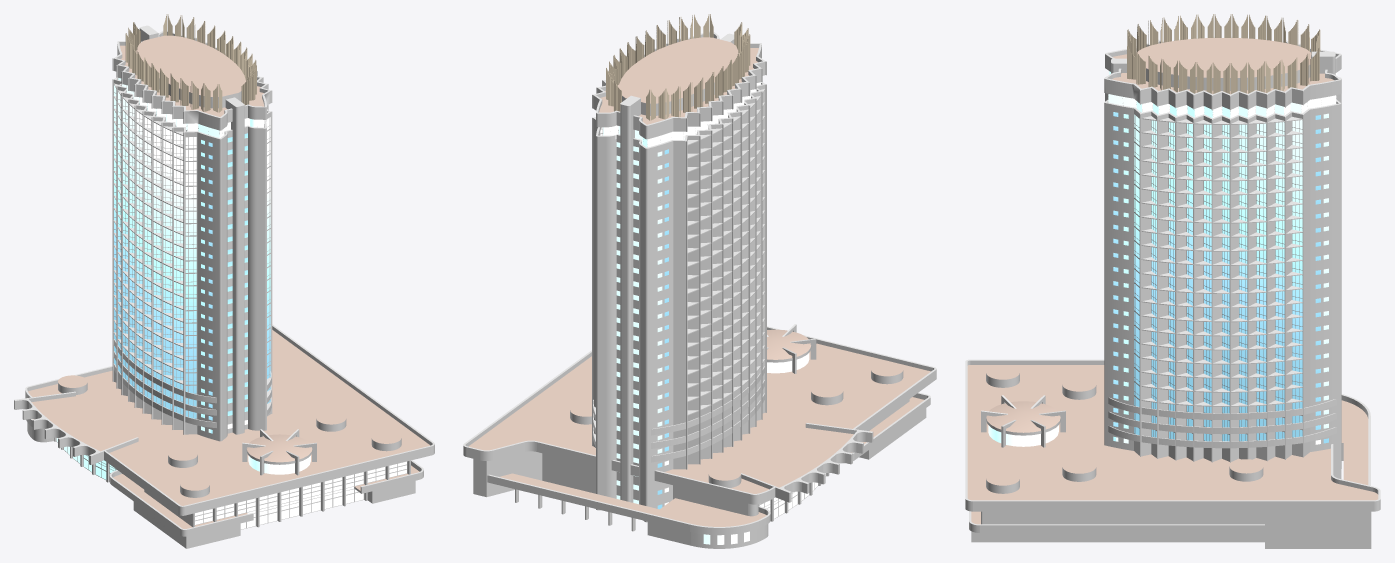
File: gost-kazakh3.glb
The picture shows the model from 3 angles, left to right: view 1: azimuth 30°, elevation 25°; view 2: azimuth 150°, elevation 25°; view 3: azimuth 270°, elevation 25°; orthographic projection. The views are drawn at different scales.
Visible parts, largest first — view 1: 1172723, 1182863, 667172, Компонент#7, Компонент#1.009, Компонент#7.001, Компонент#1.008, Компонент#1.007, 1005980, Компонент#1.006, Компонент#1.005, Компонент#1.004 (+42 smaller); view 2: 1172723, 1182863, 667172, Компонент#7, Компонент#7.001, Компонент#2.014, Компонент#2.016, Компонент#2.012, Компонент#2.018, Компонент#2.015, Компонент#2.017, Компонент#2.019 (+26 smaller); view 3: 1172723, 1182863, Компонент#7.001, Компонент#7, Компонент#5.006, Компонент#1.011, Компонент#1.018, Компонент#1.015, 1005980, Компонент#1.010, Компонент#1.017, Компонент#2.043 (+59 smaller).
Part boxes in pixels (box(x1,y1,x2,y2)): 1172723: box(14, 324, 434, 515); 1182863: box(26, 419, 423, 548); 667172: box(139, 25, 244, 434); Компонент#7: box(112, 38, 232, 130); Компонент#1.009: box(185, 136, 197, 419); Компонент#7.001: box(154, 31, 272, 119); Компонент#1.008: box(173, 132, 183, 417); Компонент#1.007: box(163, 127, 172, 410); 1005980: box(246, 434, 312, 474); Компонент#1.006: box(153, 122, 161, 405); Компонент#1.005: box(144, 116, 151, 399); Компонент#1.004: box(136, 111, 142, 393); 1172723: box(463, 326, 936, 504); 1182863: box(473, 392, 930, 548); 667172: box(620, 33, 734, 502); Компонент#7: box(633, 40, 766, 139); Компонент#7.001: box(592, 31, 720, 127); Компонент#2.014: box(633, 277, 766, 355); Компонент#2.016: box(633, 304, 766, 382); Компонент#2.012: box(633, 250, 766, 328); Компонент#2.018: box(633, 331, 766, 409); Компонент#2.015: box(633, 291, 766, 368); Компонент#2.017: box(633, 318, 766, 395); Компонент#2.019: box(633, 345, 766, 422); 1172723: box(965, 359, 1380, 511); 1182863: box(969, 394, 1371, 548); Компонент#7.001: box(1104, 57, 1341, 110); Компонент#7: box(1105, 36, 1341, 72); Компонент#5.006: box(1104, 431, 1341, 462); Компонент#1.011: box(1292, 120, 1302, 437); Компонент#1.018: box(1256, 123, 1266, 440); Компонент#1.015: box(1275, 122, 1284, 439); 1005980: box(986, 401, 1060, 446); Компонент#1.010: box(1239, 124, 1247, 441); Компонент#1.017: box(1203, 124, 1211, 441); Компонент#2.043: box(1104, 149, 1341, 180).
Bounding box in the file's own units: 77.36 × 103 × 88.2.
318 materials, 1 textured.
